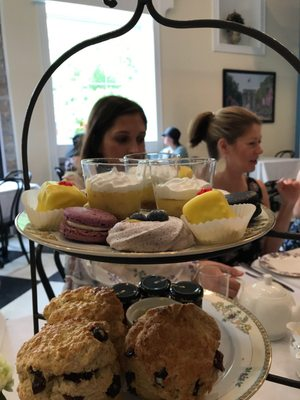pizza: (82, 157, 147, 219)
